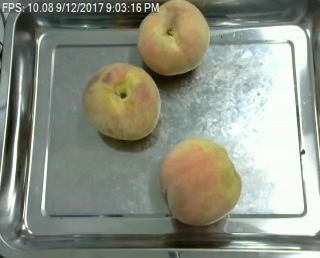Peach: (160, 136, 243, 227), (43, 69, 126, 150), (137, 0, 209, 77)
